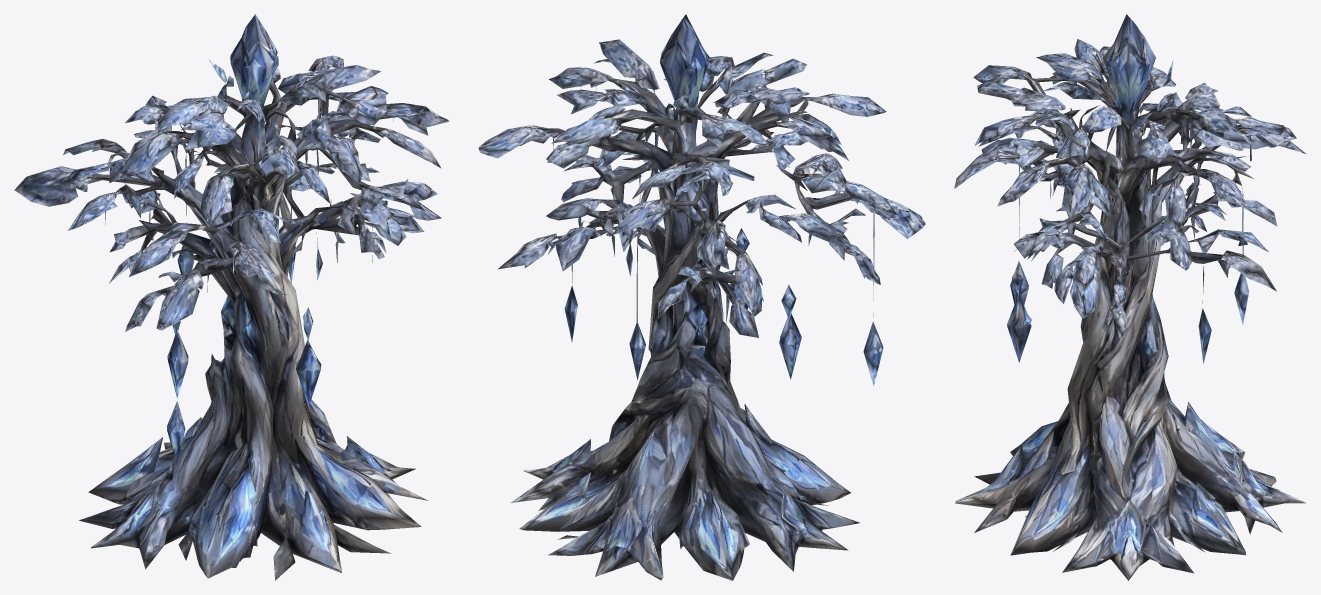
File: MAHWORLD_FOREST_TREE_PRIMARY_L1.glb
3 views of the same model, side by side, from view 1: azimuth 30°, elevation 25°; view 2: azimuth 150°, elevation 25°; view 3: azimuth 270°, elevation 25° (orthographic).
Parts seen in each view (by area): view 1: tripo_node_74de2fc4-3eb6-4b5e-a97c-50282d0c2e80; view 2: tripo_node_74de2fc4-3eb6-4b5e-a97c-50282d0c2e80; view 3: tripo_node_74de2fc4-3eb6-4b5e-a97c-50282d0c2e80.
Part boxes in pixels (x1,y1,x2,y2): tripo_node_74de2fc4-3eb6-4b5e-a97c-50282d0c2e80: (14, 14, 449, 580); tripo_node_74de2fc4-3eb6-4b5e-a97c-50282d0c2e80: (478, 14, 925, 580); tripo_node_74de2fc4-3eb6-4b5e-a97c-50282d0c2e80: (954, 14, 1305, 580).
Size of the model in its own units: 0.6941 by 0.9652 by 0.6271.
1 material, 1 textured.
